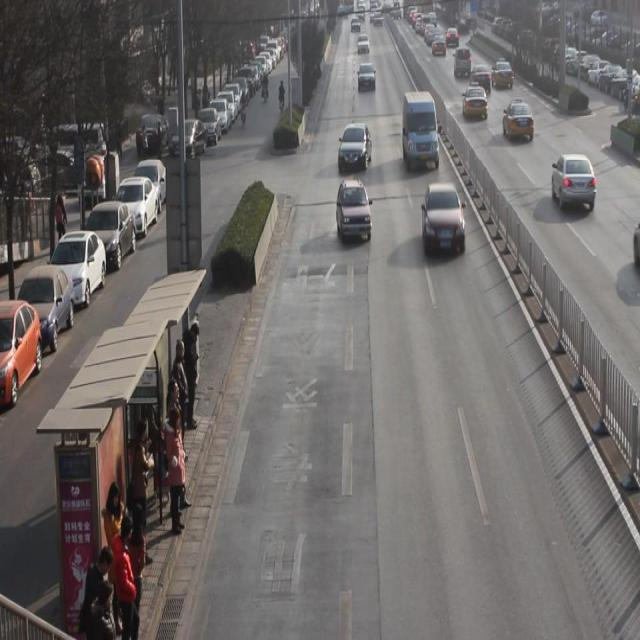car: (422, 183, 466, 253), (552, 152, 597, 212), (336, 180, 373, 244), (339, 122, 374, 174), (504, 97, 536, 140), (464, 80, 489, 120), (492, 56, 515, 90), (471, 63, 492, 95), (359, 62, 376, 93), (455, 48, 472, 78), (433, 32, 447, 56), (357, 33, 370, 56), (446, 26, 460, 46)
truck: (402, 90, 440, 170)
